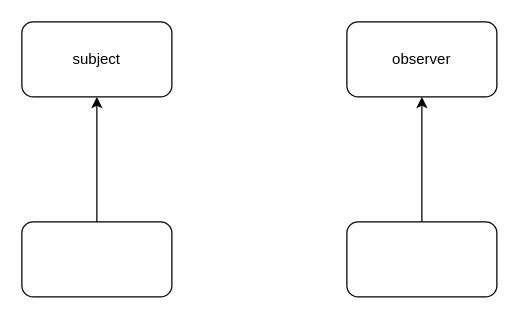
The diagram is 519 pixels wide and 319 high, and some of its shapes have lost their labels. Each missing label, with the centre of its shape:
concrete_observer: [421,259]
concrete_subject: [96,259]
